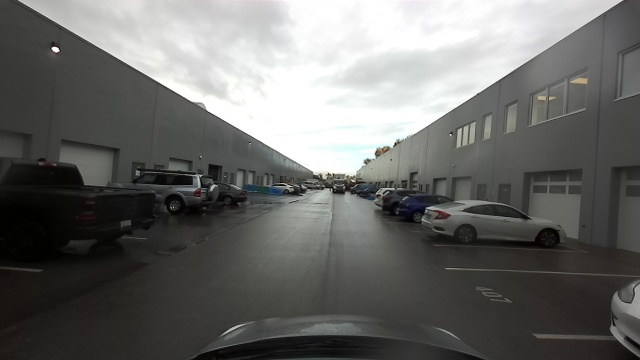car: (3, 152, 150, 258), (422, 195, 567, 248), (147, 169, 219, 216), (389, 191, 419, 223), (221, 184, 248, 208), (371, 184, 388, 207), (350, 183, 377, 194), (331, 177, 347, 194), (280, 181, 299, 195), (305, 181, 322, 189)
